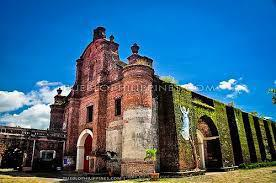Sta. Maria Church: (49, 21, 158, 179)
Unfinished Paint: (107, 109, 157, 157)
